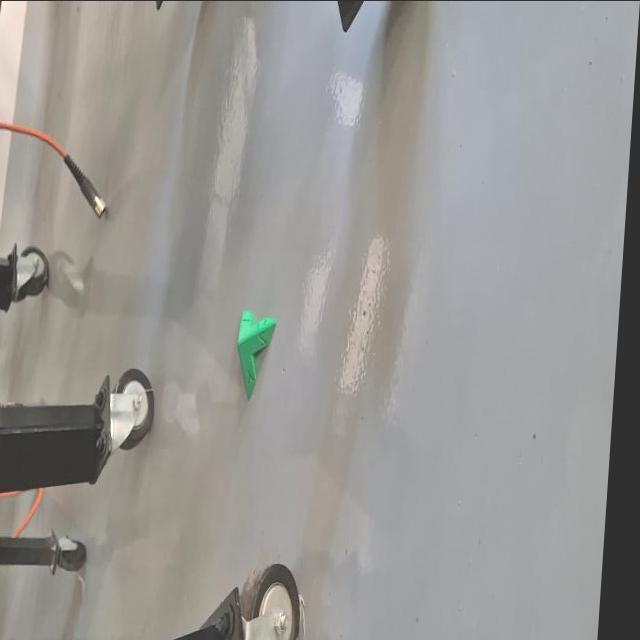eje: (232, 308, 278, 402)
